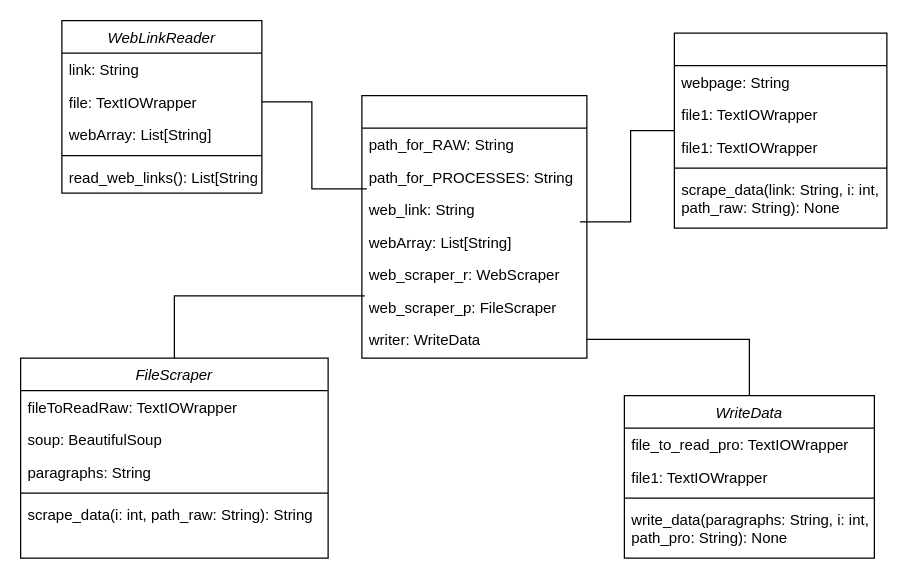
Some shapes in this 908 by 579 pixel diagram are drawn without their labels. Here are the shapes that lost their labels. From the top down, the box of each, then its label:
(673, 32, 887, 228): WebScraper
(361, 94, 587, 358): main
